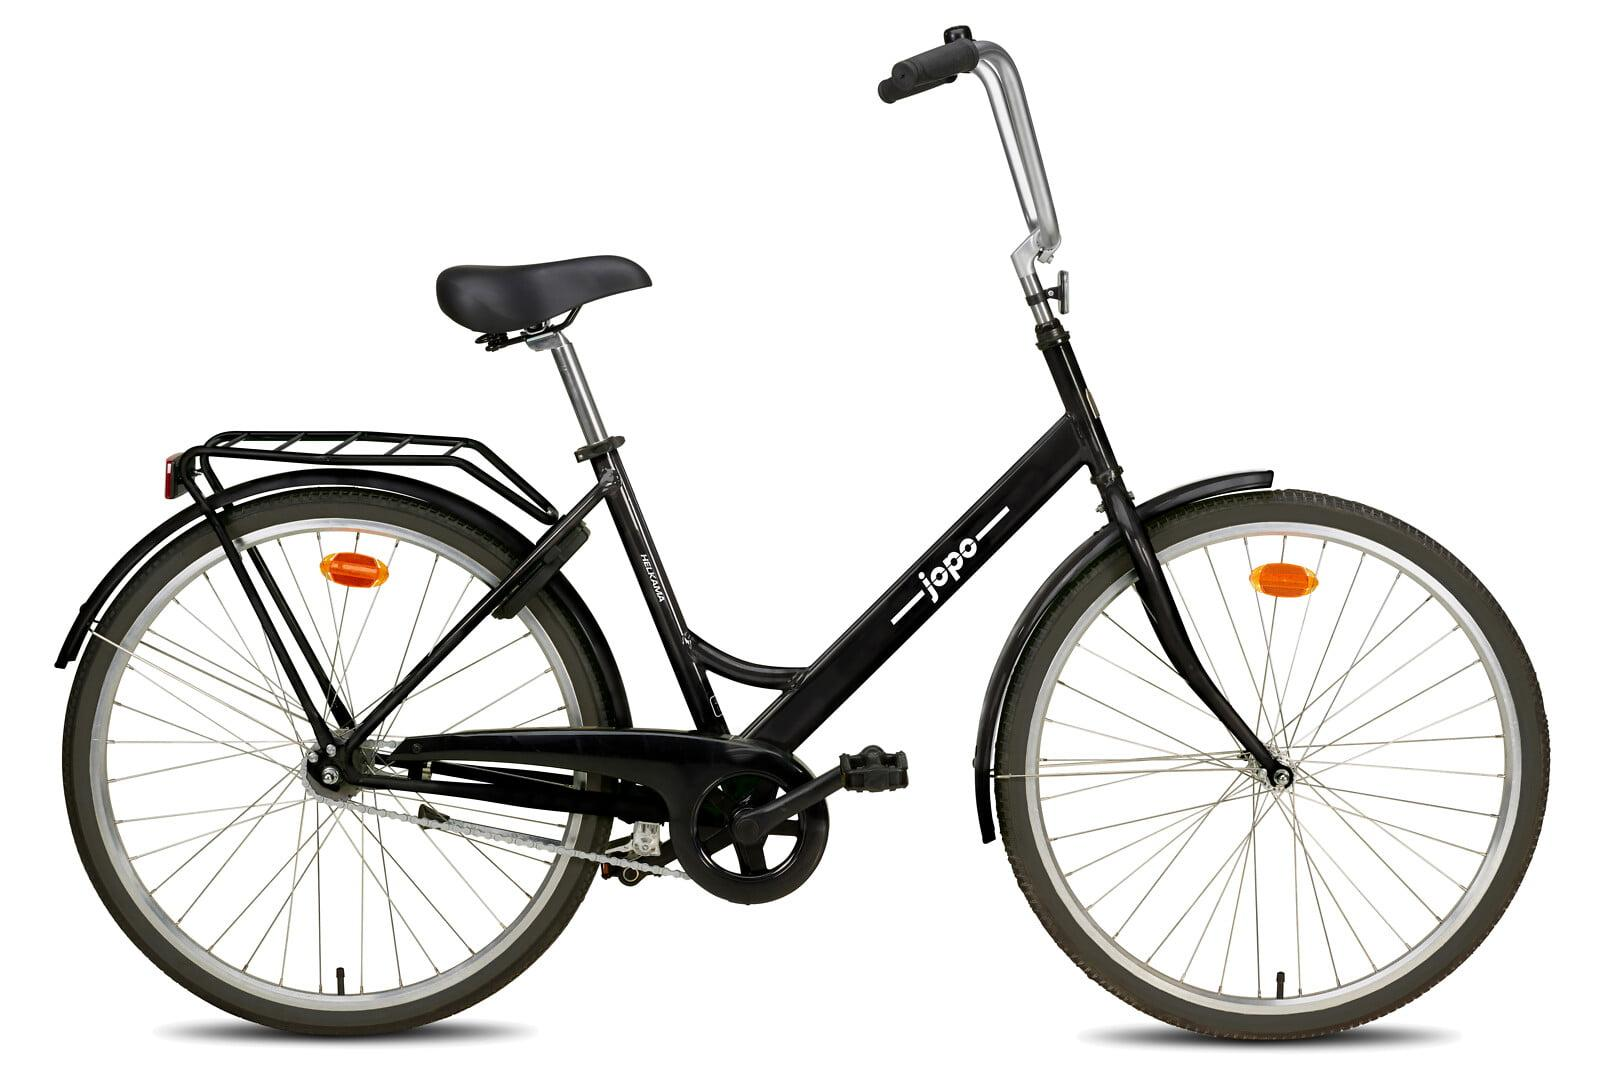bicycle: (49, 19, 1560, 1051)
